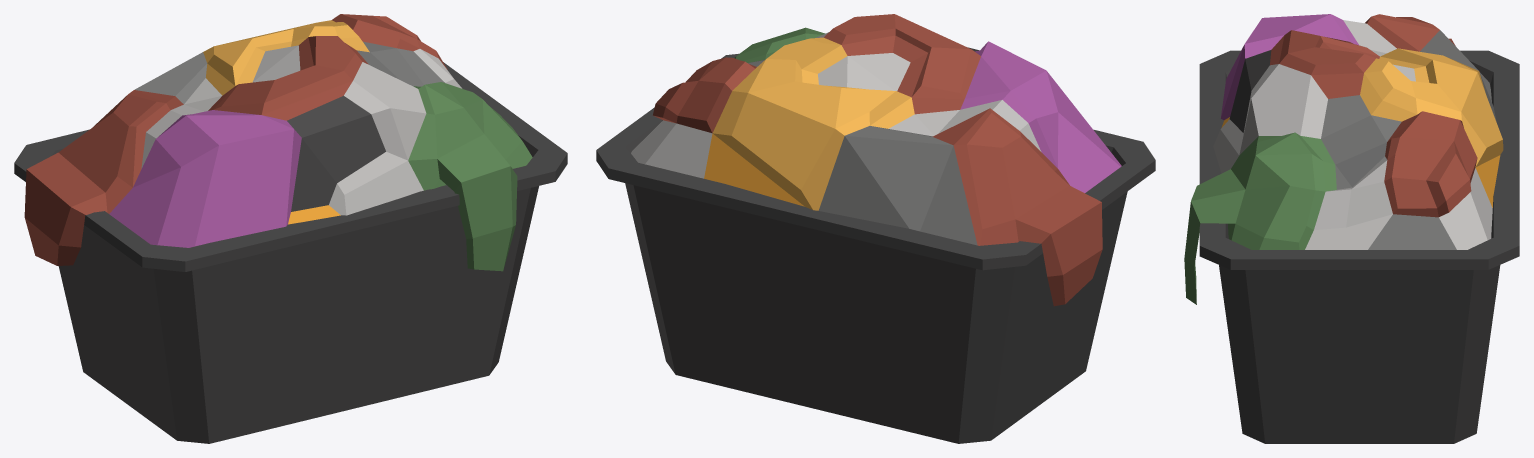
Rendered from SM_Prop_LaundryBin_02.fbx.
3 views of the same model, side by side, from view 1: azimuth 30°, elevation 25°; view 2: azimuth 150°, elevation 25°; view 3: azimuth 270°, elevation 25° (orthographic).
Parts seen in each view (by area): view 1: SM_Prop_LaundryBin_02, SM_Prop_LaundryBin_02_Clothes; view 2: SM_Prop_LaundryBin_02, SM_Prop_LaundryBin_02_Clothes; view 3: SM_Prop_LaundryBin_02_Clothes, SM_Prop_LaundryBin_02.
Boxes of the visible parts, bbox=[...] form: SM_Prop_LaundryBin_02: bbox=[14, 62, 567, 443]; SM_Prop_LaundryBin_02_Clothes: bbox=[24, 14, 532, 271]; SM_Prop_LaundryBin_02: bbox=[596, 53, 1155, 443]; SM_Prop_LaundryBin_02_Clothes: bbox=[631, 14, 1121, 306]; SM_Prop_LaundryBin_02_Clothes: bbox=[1184, 14, 1503, 304]; SM_Prop_LaundryBin_02: bbox=[1199, 50, 1519, 443].
Size of the model in its own units: 101 by 70.83 by 66.33.
